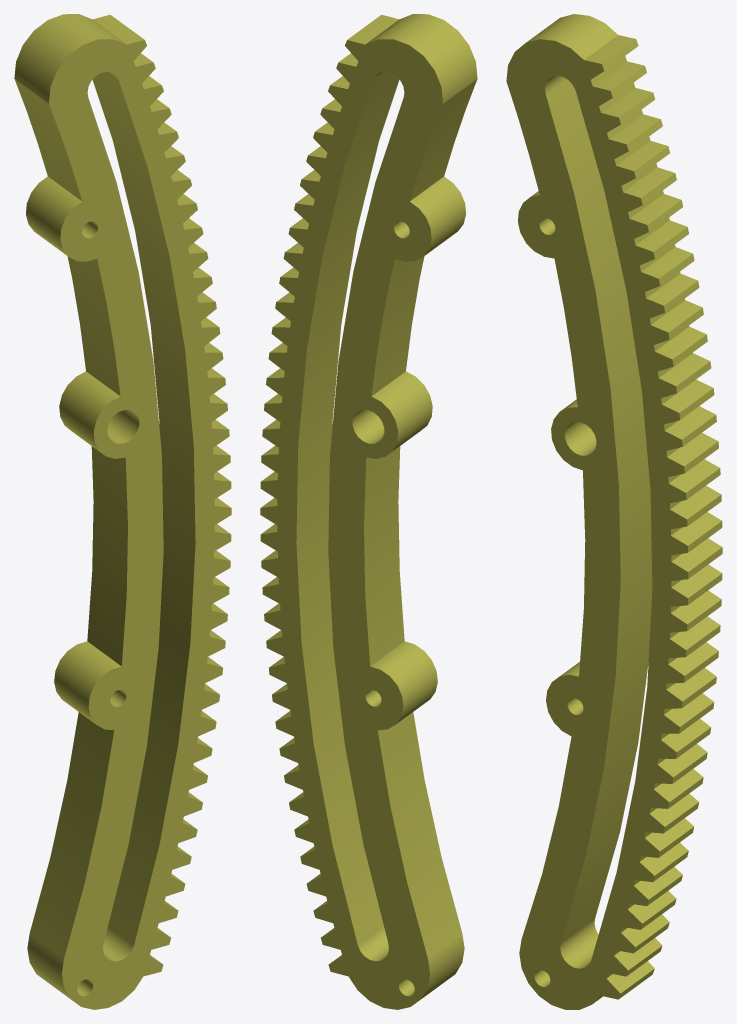
3 views of the same model, side by side, from view 1: azimuth 30°, elevation 25°; view 2: azimuth 150°, elevation 25°; view 3: azimuth 330°, elevation 25° (orthographic).
Parts seen in each view (by area): view 1: 切除-拉伸8; view 2: 切除-拉伸8; view 3: 切除-拉伸8.
Part boxes in pixels (x1,y1,x2,y2): 切除-拉伸8: (14, 14, 231, 1009); 切除-拉伸8: (260, 14, 477, 1009); 切除-拉伸8: (506, 14, 722, 1009).
Bounding box in the file's own units: 4.59 × 23.31 × 1.5.
